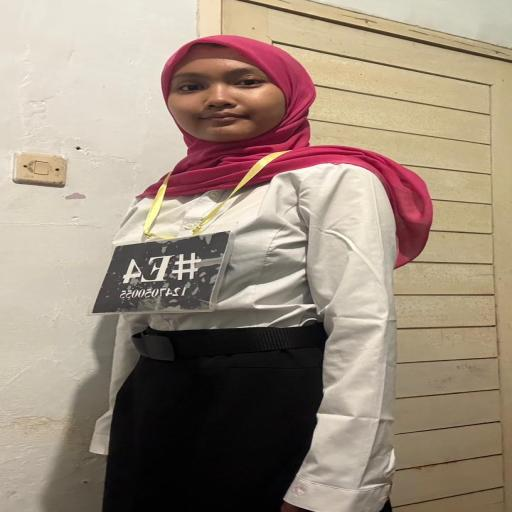kemeja_benar: (105, 176, 413, 336)
kerudung_benar: (135, 28, 374, 192)
nametag_ada: (87, 190, 242, 320)
rok_benar: (112, 360, 388, 512)
sabuk_ada: (119, 330, 325, 364)
